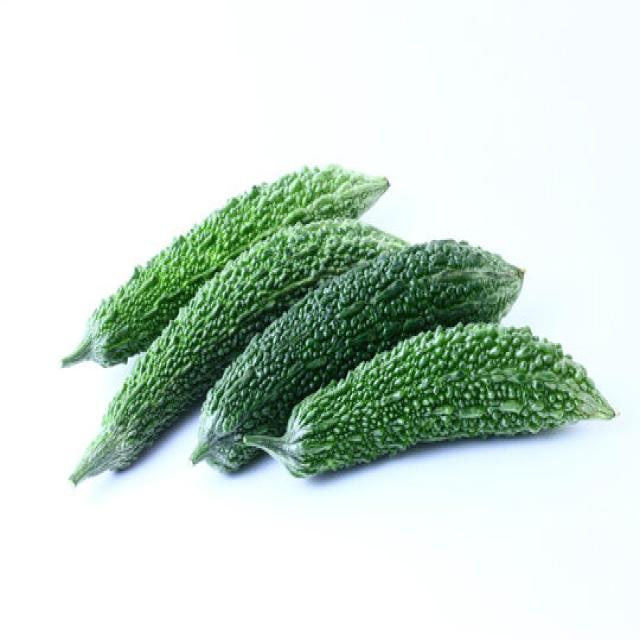Bitter_Gourd: (61, 156, 617, 484)
